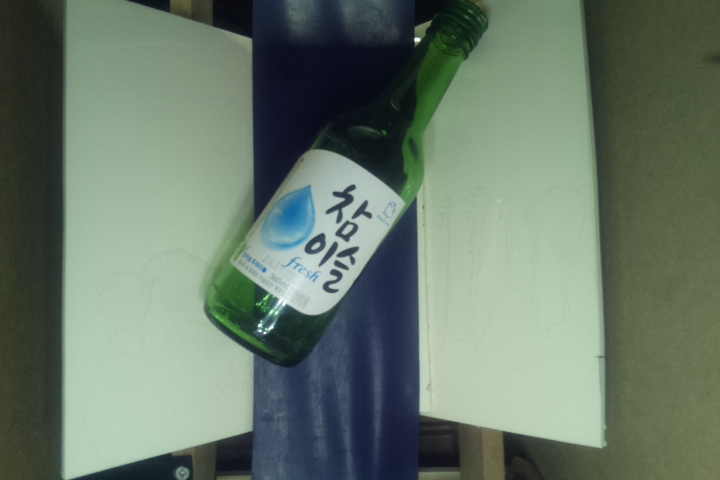soju: (205, 1, 503, 374)
